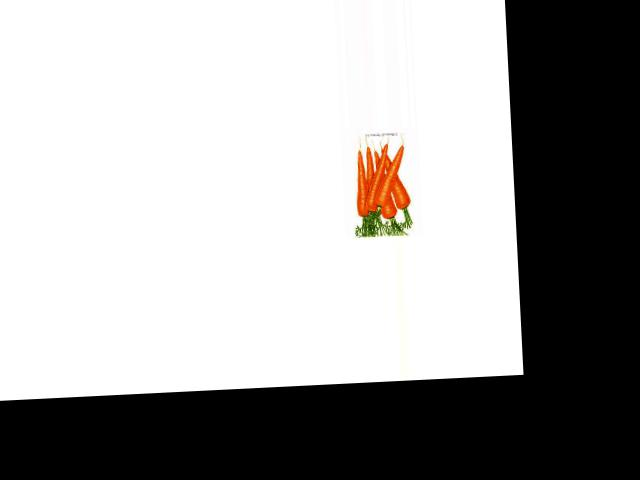carrot: (361, 136, 384, 212)
